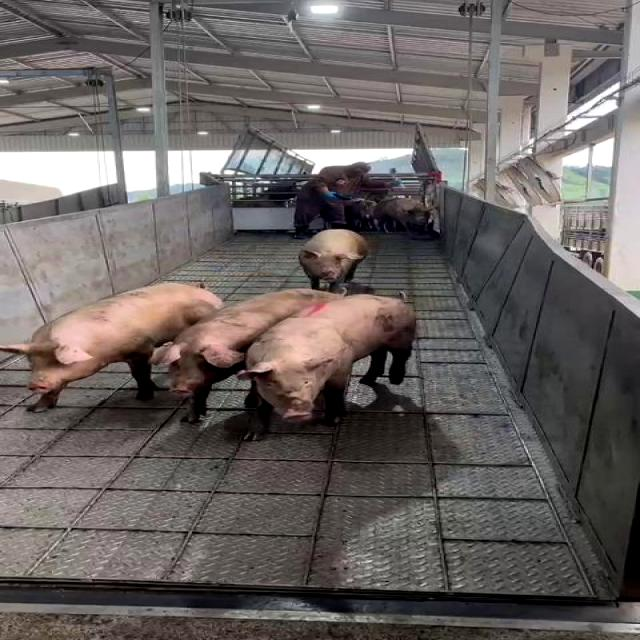pig: (0, 284, 225, 412), (238, 294, 417, 439), (151, 289, 340, 422), (300, 229, 369, 288)
